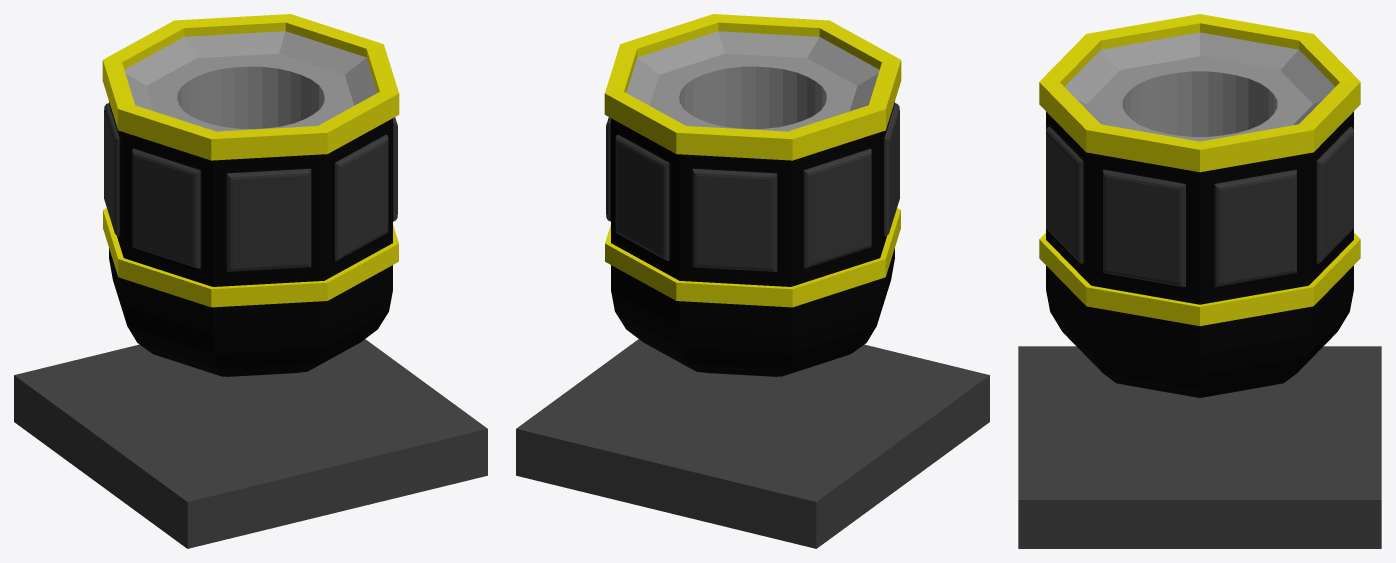
File: Mortar.fbx
3 views of the same model, side by side, from view 1: azimuth 30°, elevation 25°; view 2: azimuth 150°, elevation 25°; view 3: azimuth 270°, elevation 25° (orthographic). The views are drawn at different scales.
Visible parts, largest first — view 1: Cylinder, Cube.001; view 2: Cylinder, Cube.001; view 3: Cylinder, Cube.001.
Part boxes in pixels (bbox=[...]): Cylinder: bbox=[102, 14, 399, 376]; Cube.001: bbox=[14, 339, 487, 548]; Cylinder: bbox=[604, 14, 901, 376]; Cube.001: bbox=[516, 339, 989, 548]; Cylinder: bbox=[1039, 14, 1360, 397]; Cube.001: bbox=[1018, 346, 1381, 548].
Bounding box in the file's own units: 0.2871 × 0.3399 × 0.2871.
